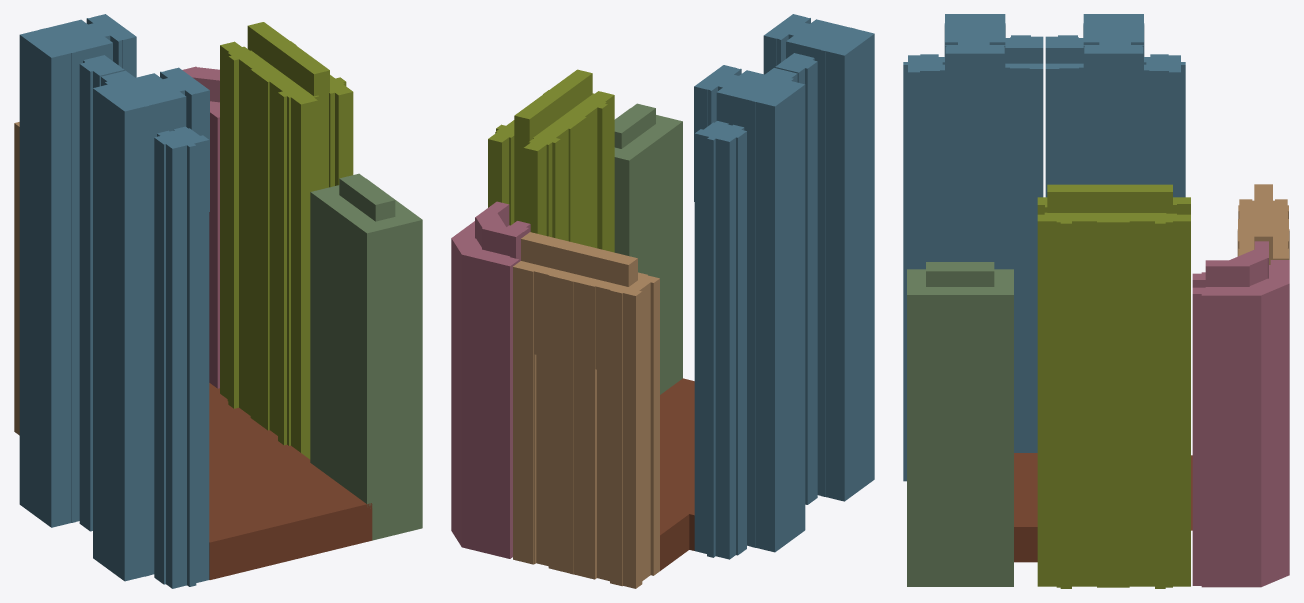
The model's file is MainBuilding.glb.
3 views of the same model, side by side, from view 1: azimuth 30°, elevation 25°; view 2: azimuth 150°, elevation 25°; view 3: azimuth 270°, elevation 25° (orthographic). The views are drawn at different scales.
Parts seen in each view (by area): view 1: Skyleap, Moonrise, Tower 5, [5479], Stargaze, Sunburst; view 2: Skyleap, Sunburst, Stargaze, Moonrise, Tower 5, [5479]; view 3: Moonrise, Skyleap, Tower 5, Stargaze, Sunburst, [5479].
Part boxes in pixels (bbox=[...]): Skyleap: bbox=[19, 14, 209, 588]; Moonrise: bbox=[220, 22, 353, 459]; Tower 5: bbox=[310, 173, 422, 540]; [5479]: bbox=[209, 383, 372, 579]; Stargaze: bbox=[182, 66, 219, 388]; Sunburst: bbox=[14, 122, 19, 435]; Skyleap: bbox=[694, 14, 874, 559]; Sunburst: bbox=[513, 232, 659, 588]; Stargaze: bbox=[451, 201, 530, 558]; Moonrise: bbox=[488, 69, 614, 252]; Tower 5: bbox=[614, 103, 682, 394]; [5479]: bbox=[660, 378, 694, 570]; Moonrise: bbox=[1037, 184, 1190, 588]; Skyleap: bbox=[903, 14, 1185, 481]; Tower 5: bbox=[907, 262, 1013, 586]; Stargaze: bbox=[1192, 241, 1289, 587]; Sunburst: bbox=[1237, 184, 1289, 264]; [5479]: bbox=[1014, 453, 1192, 562].
Bounding box in the file's own units: 115 × 182 × 143.
